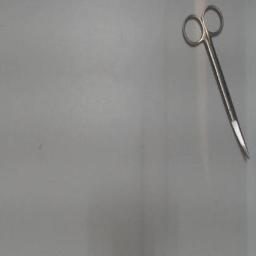Curved Mayo Scissors: (178, 1, 252, 163)
